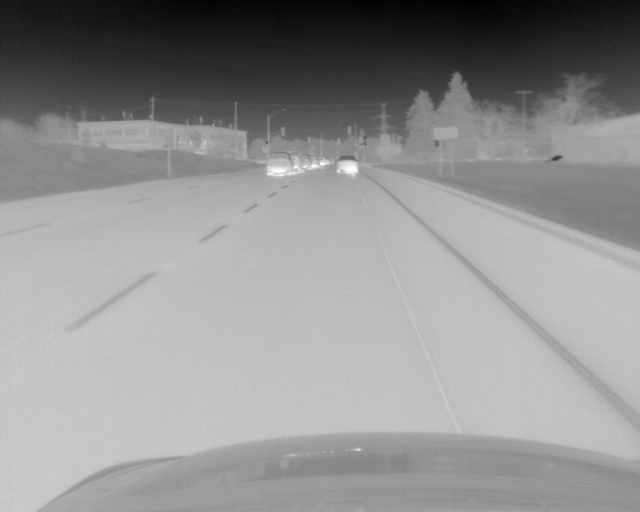car: (266, 152, 293, 175), (337, 156, 359, 174), (292, 151, 303, 171), (301, 155, 310, 169), (310, 155, 319, 168), (319, 156, 326, 165)
